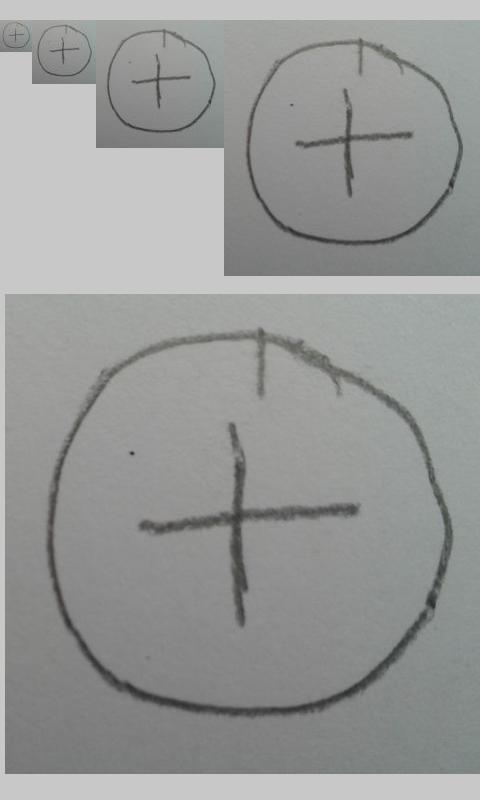button: (41, 328, 454, 720), (246, 38, 463, 247), (107, 29, 217, 134), (36, 24, 93, 78), (2, 21, 31, 49)
